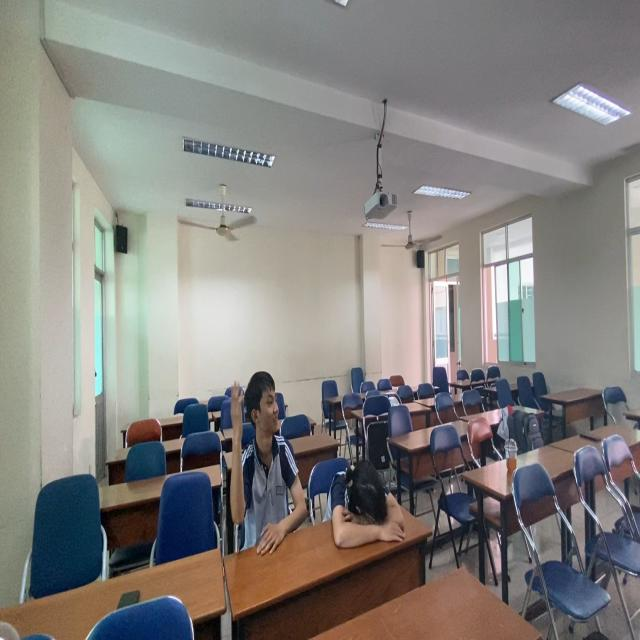raise_hand: (228, 368, 311, 561)
sleep: (327, 445, 414, 552)
